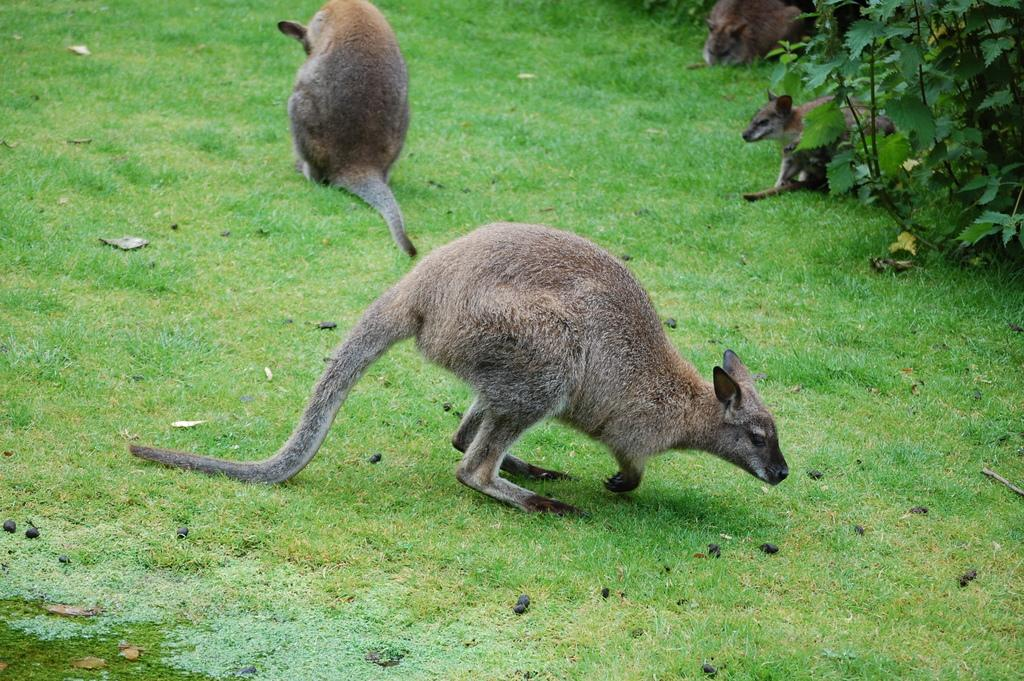kangaroo: (128, 221, 790, 521), (276, 1, 414, 256), (742, 86, 898, 192), (692, 0, 807, 60)
